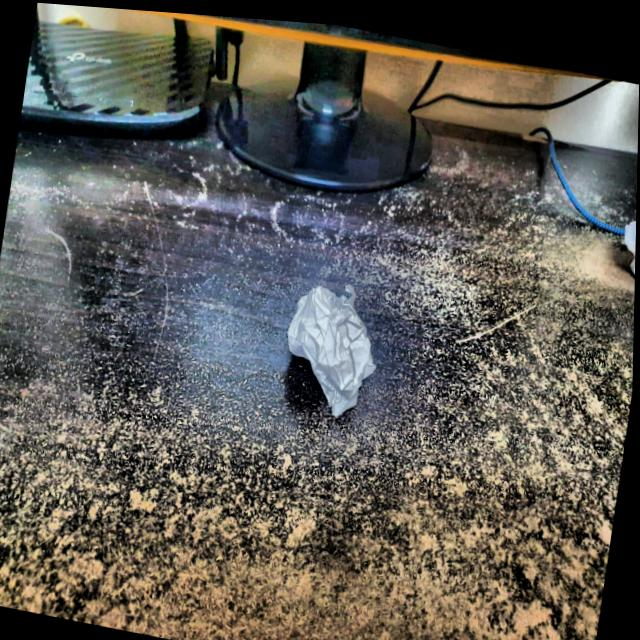Paper: (274, 264, 395, 418)
